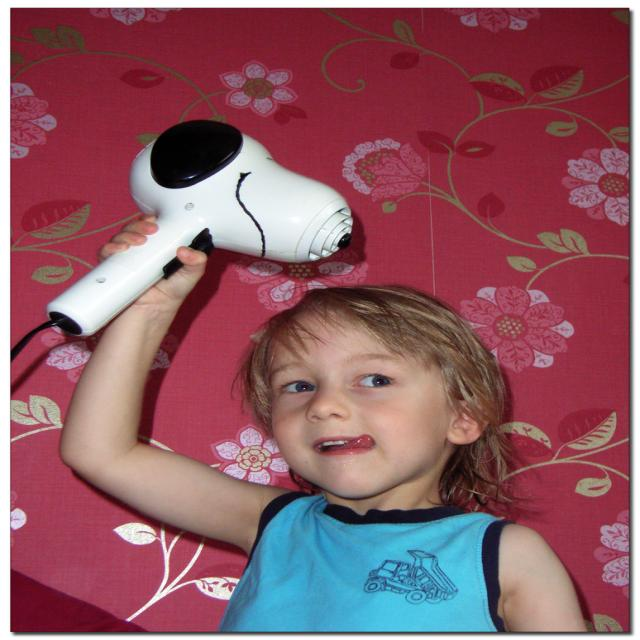dryer: (30, 107, 385, 355)
